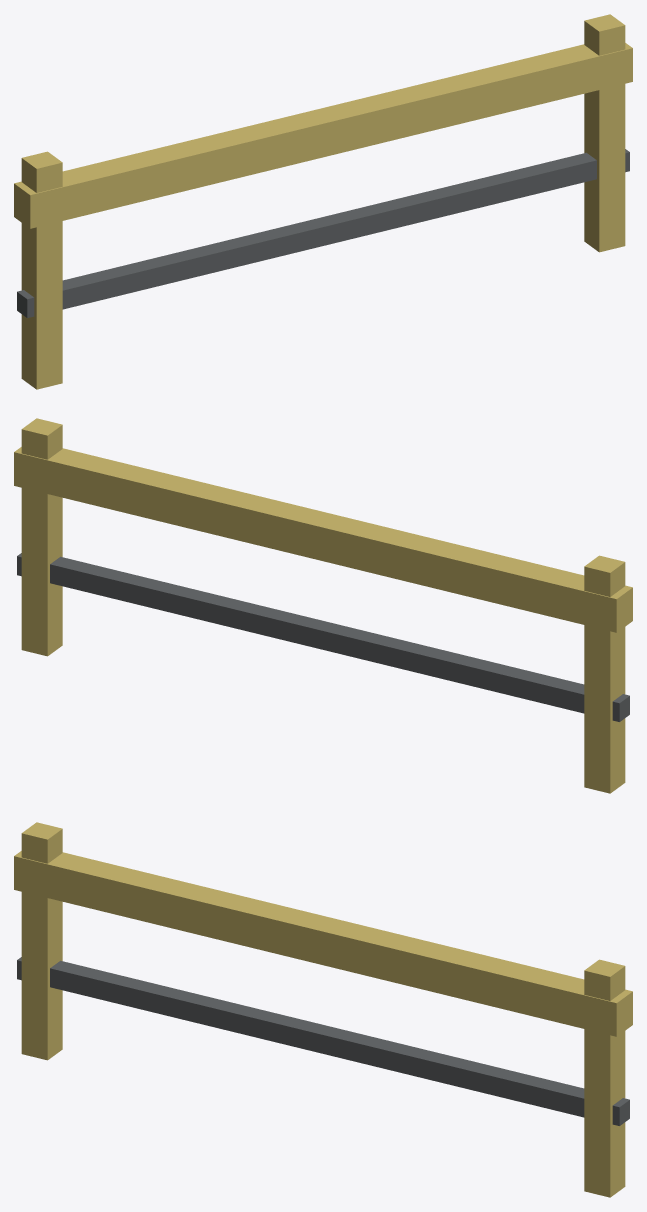
The model's file is barrier_lod1.glb.
3 views of the same model, one above another, from view 1: azimuth 30°, elevation 25°; view 2: azimuth 150°, elevation 25°; view 3: azimuth 330°, elevation 25° (orthographic).
Visible parts, largest first — view 1: rail, lower, post1, post2; view 2: rail, lower, post1, post2; view 3: rail, lower, post2, post1.
Part boxes in pixels (<box>): rail: <box>14,43,632,228</box>; lower: <box>17,149,629,317</box>; post1: <box>21,151,62,389</box>; post2: <box>584,14,625,252</box>; rail: <box>14,447,632,632</box>; lower: <box>17,553,629,721</box>; post1: <box>584,555,625,793</box>; post2: <box>21,418,62,656</box>; rail: <box>14,851,632,1036</box>; lower: <box>17,957,629,1125</box>; post2: <box>584,959,625,1197</box>; post1: <box>21,822,62,1060</box>.
Size of the model in its own units: 3 by 1.05 by 0.14.
